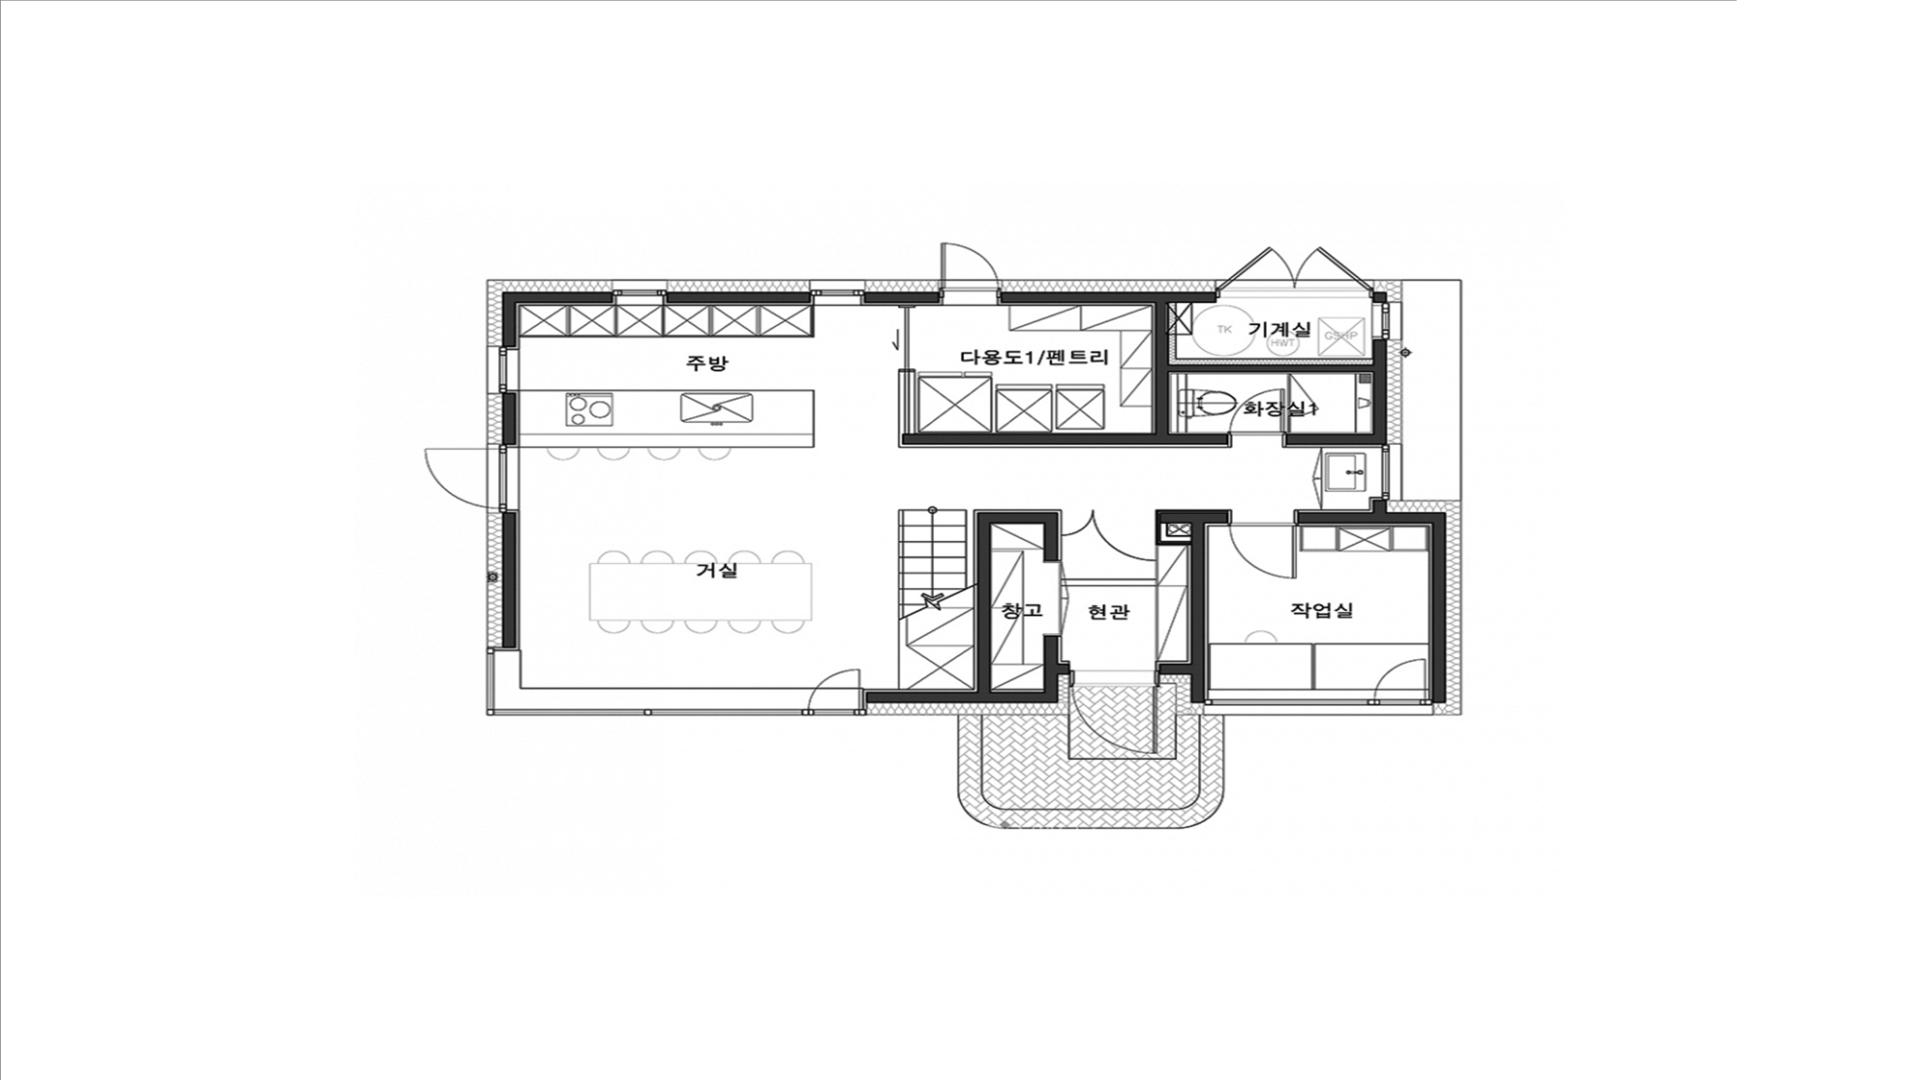door: (1217, 247, 1371, 303), (1069, 670, 1159, 754), (1058, 509, 1155, 562), (1229, 509, 1298, 579), (1229, 388, 1286, 447), (898, 306, 916, 434)
wall: (902, 434, 1229, 444), (1431, 524, 1447, 703), (501, 512, 521, 649), (1191, 524, 1205, 703), (1001, 291, 1217, 303), (976, 524, 990, 692), (865, 691, 1043, 703), (666, 291, 810, 305), (1155, 303, 1170, 434), (1168, 364, 1371, 373), (1298, 512, 1447, 524), (1371, 339, 1387, 444), (520, 291, 612, 305), (1155, 509, 1229, 524), (864, 291, 939, 305), (1043, 636, 1058, 703), (502, 291, 520, 347), (1286, 434, 1373, 444), (502, 393, 520, 444), (976, 512, 1043, 524), (1043, 512, 1059, 562), (1159, 663, 1191, 674), (1373, 500, 1387, 512), (1371, 291, 1387, 302), (1162, 541, 1192, 546), (1155, 524, 1162, 546), (1058, 663, 1069, 675)
window: (487, 647, 808, 716), (422, 444, 520, 513), (939, 243, 1001, 302), (1205, 688, 1374, 705), (1374, 658, 1432, 705), (808, 669, 865, 716), (487, 347, 520, 393), (612, 280, 666, 305), (810, 280, 864, 305), (1371, 302, 1403, 339), (1381, 444, 1402, 500)
